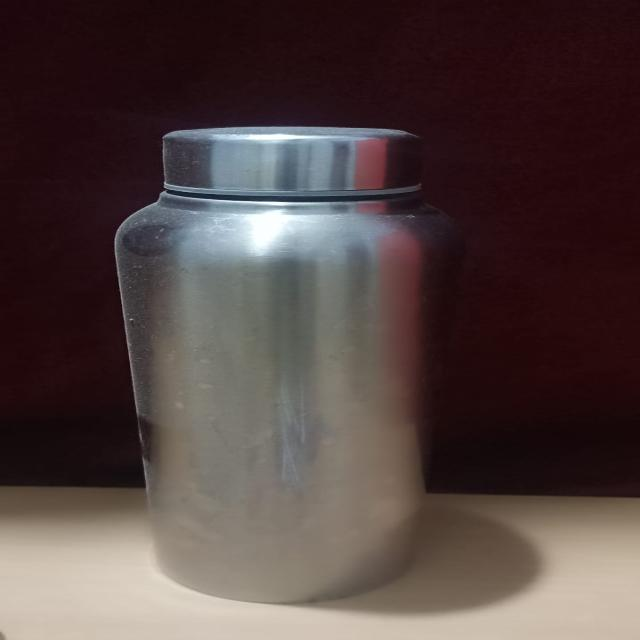bottle: (102, 116, 460, 608)
